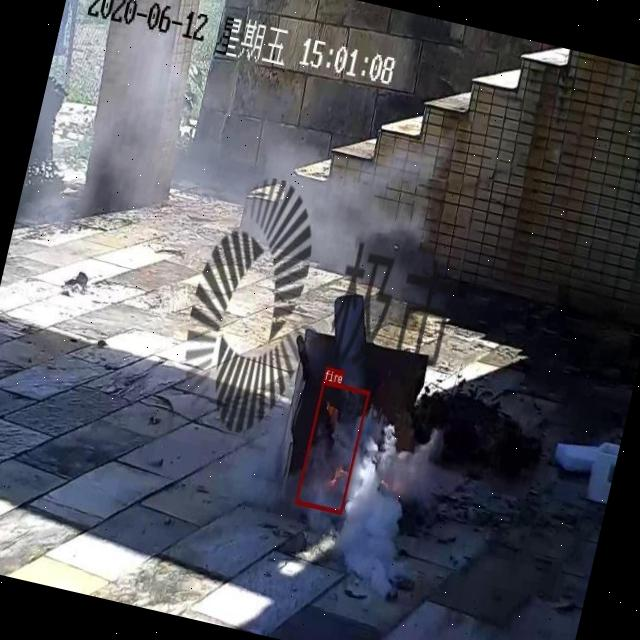fire: (294, 379, 370, 514)
